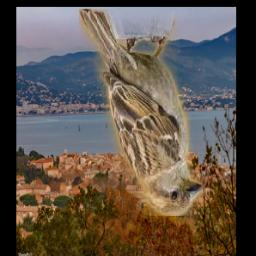Sparrow: (78, 10, 203, 217)
